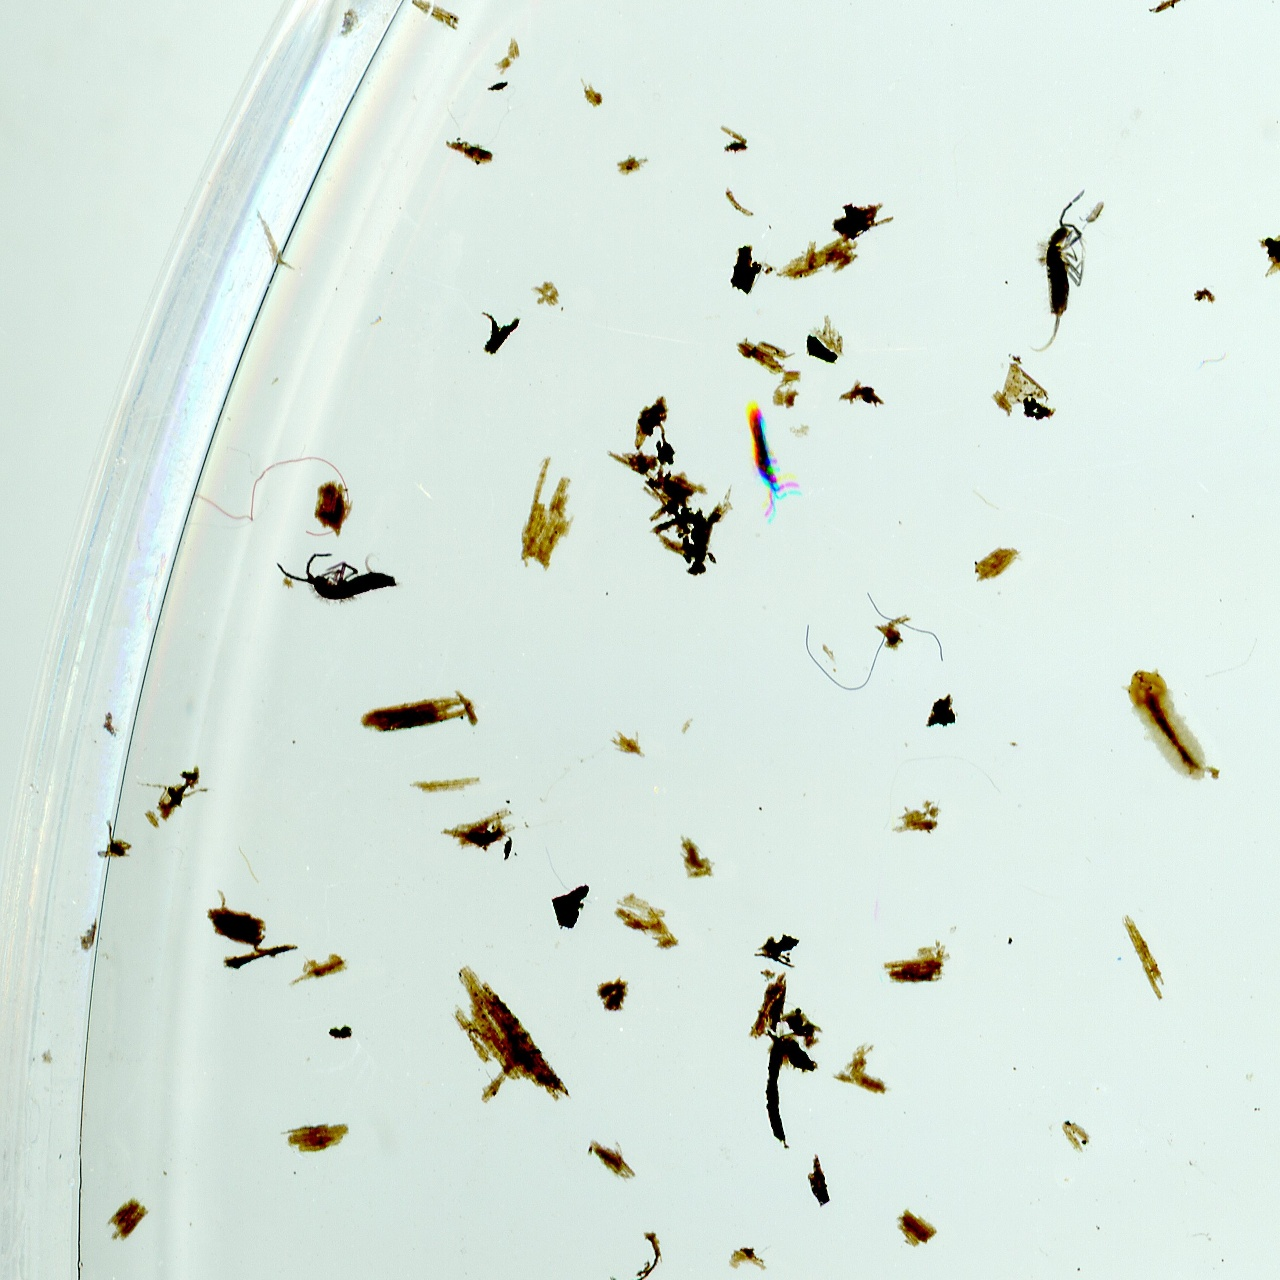arthropod: (1105, 651, 1226, 804), (726, 386, 811, 527), (1024, 187, 1086, 357), (274, 549, 406, 607), (1076, 194, 1109, 234)
